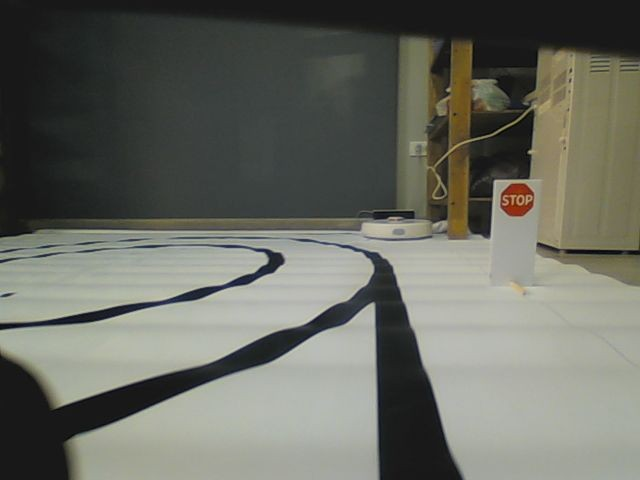Stop: (498, 181, 538, 219)
